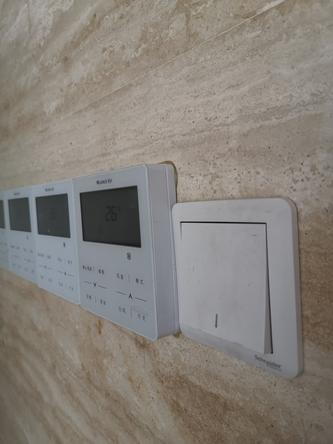switch: (174, 216, 284, 357)
